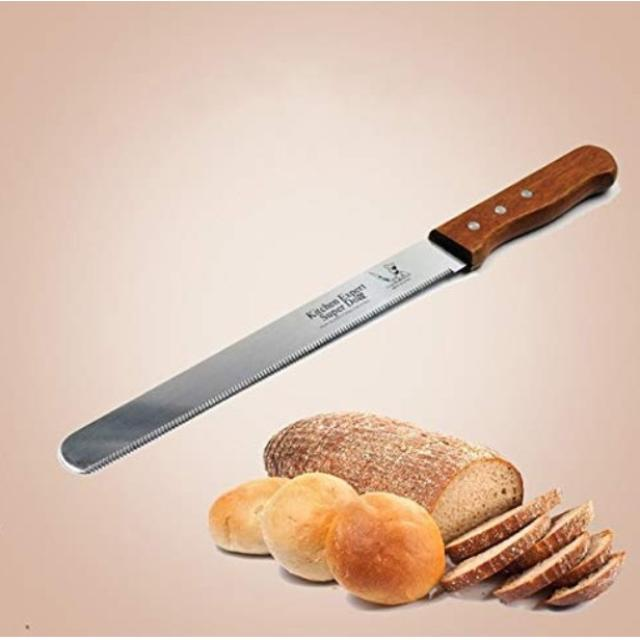Knife: (58, 144, 616, 473)
